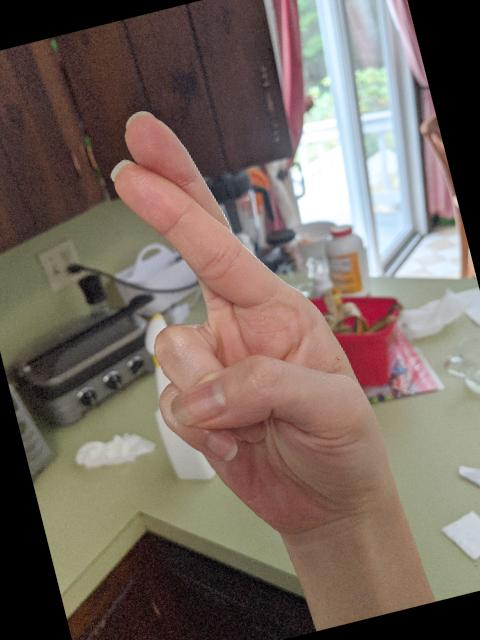R: (79, 66, 414, 575)
